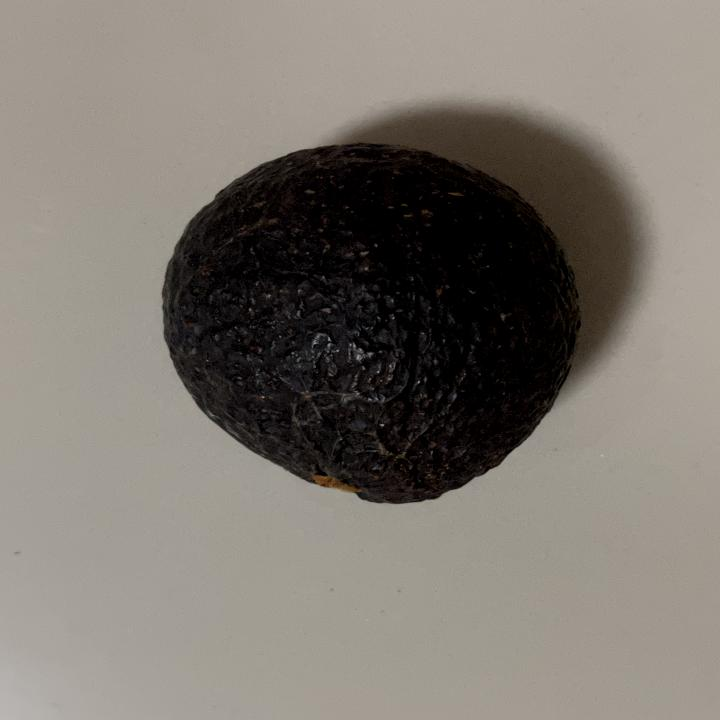Level3: (150, 136, 588, 514)
